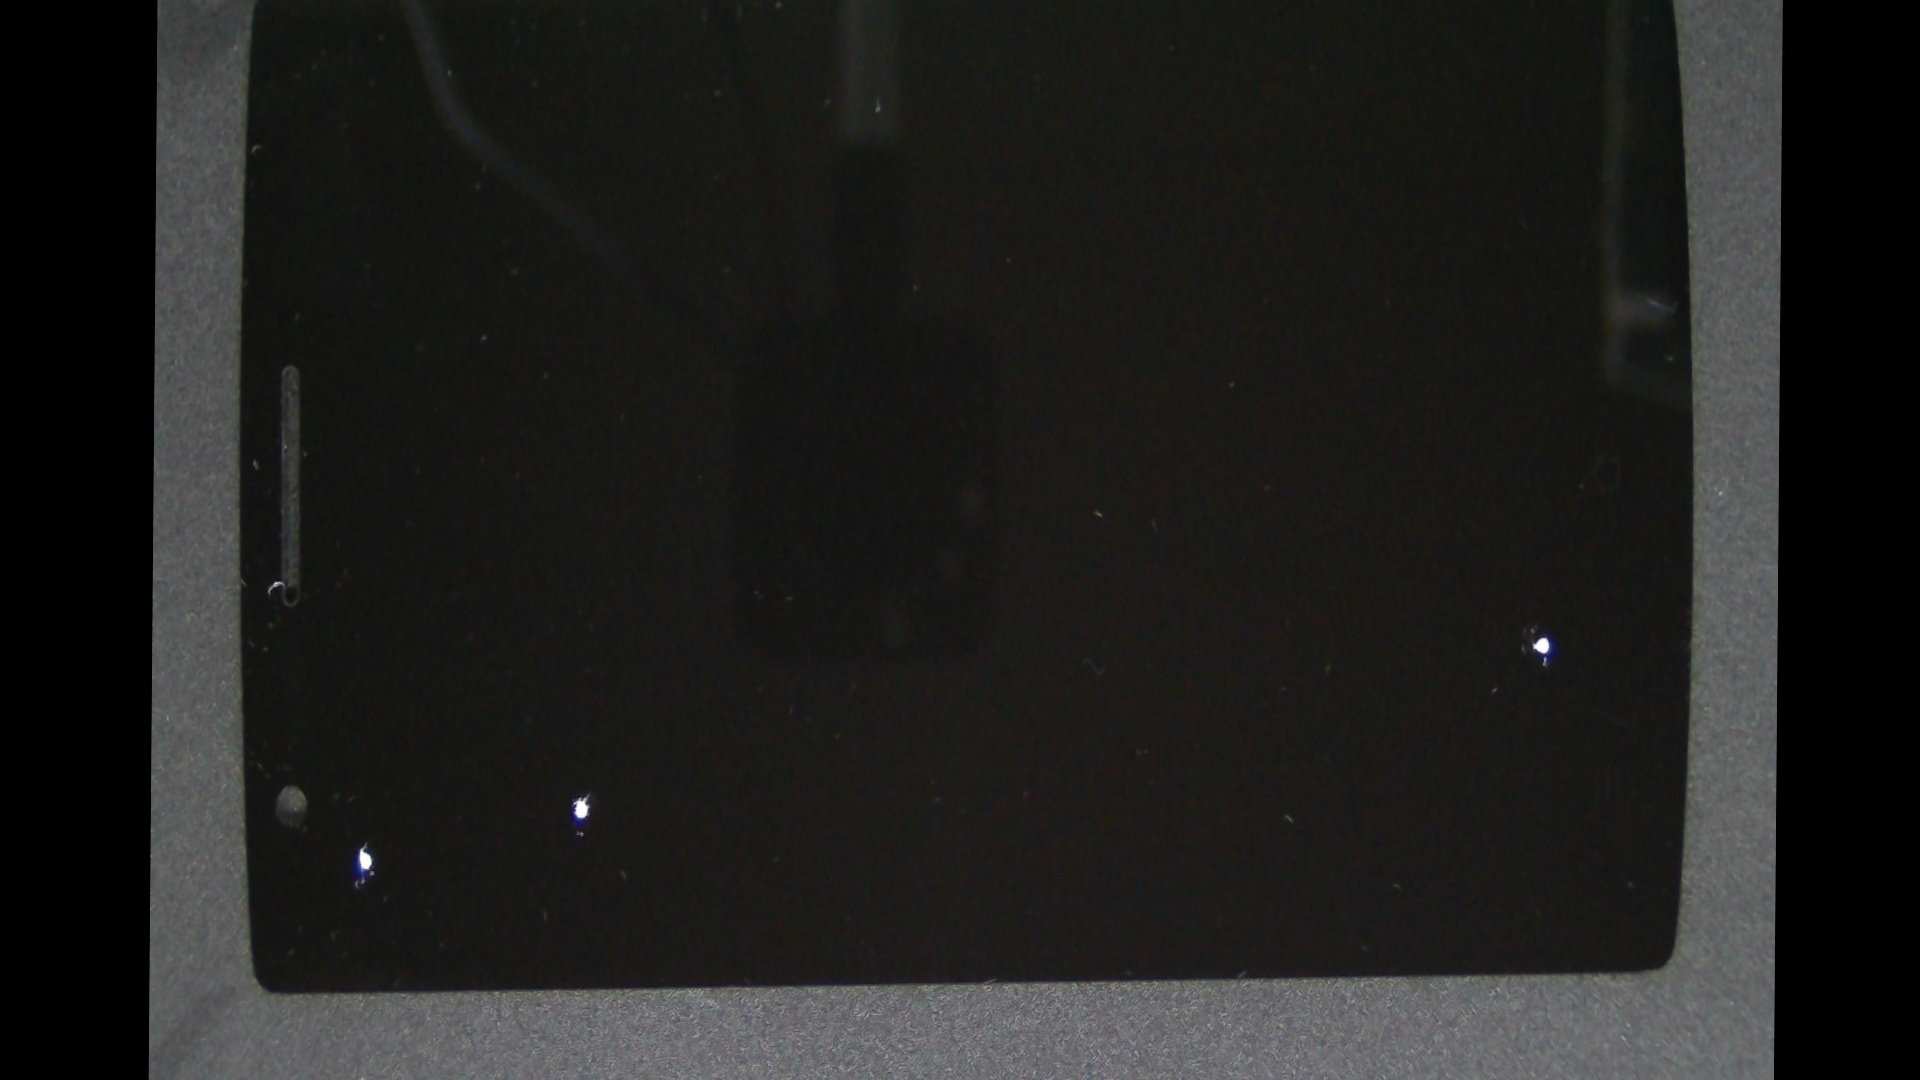oil: (847, 248, 1780, 1018), (368, 326, 810, 1080), (361, 344, 794, 1080), (256, 351, 475, 1080)
